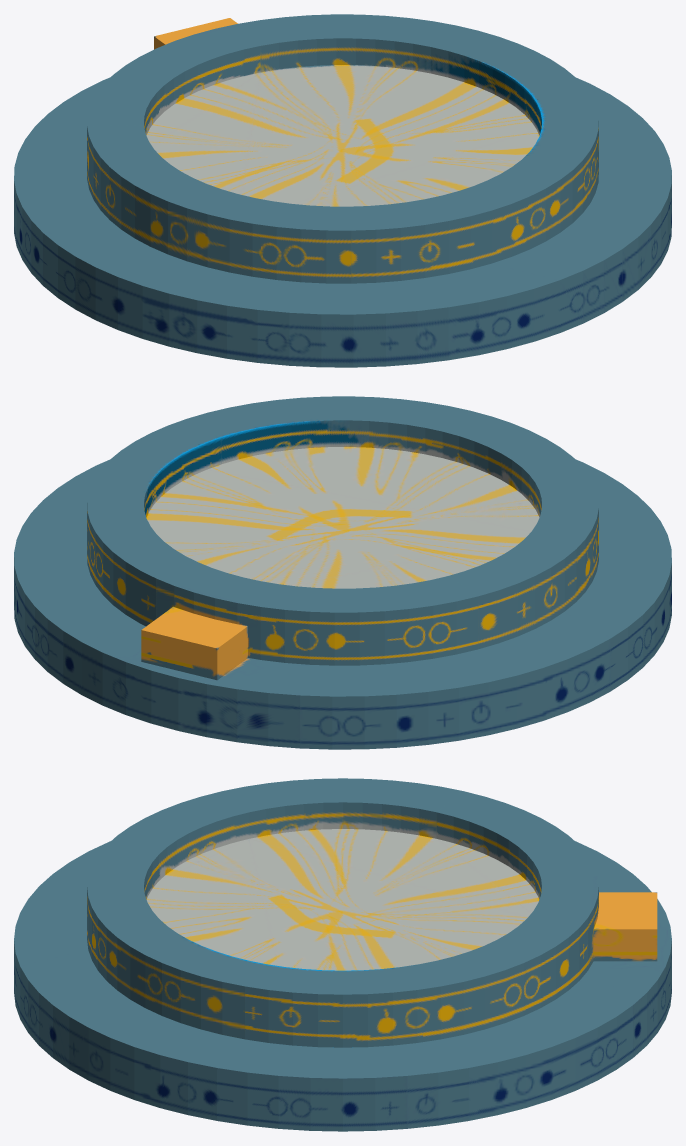
The model's file is acceptor.fbx.
The picture shows the model from 3 angles, top to bottom: view 1: azimuth 30°, elevation 25°; view 2: azimuth 150°, elevation 25°; view 3: azimuth 270°, elevation 25°; orthographic projection.
Parts seen in each view (by area): view 1: node_id3; view 2: node_id3; view 3: node_id3.
Boxes of the visible parts, box(x1,y1,x2,y2) form: node_id3: box(14, 14, 671, 367); node_id3: box(14, 396, 671, 749); node_id3: box(14, 778, 671, 1131).
Bounding box in the file's own units: 0.512 × 0.091 × 0.512.
Materials: 1 (1 with a texture image).
